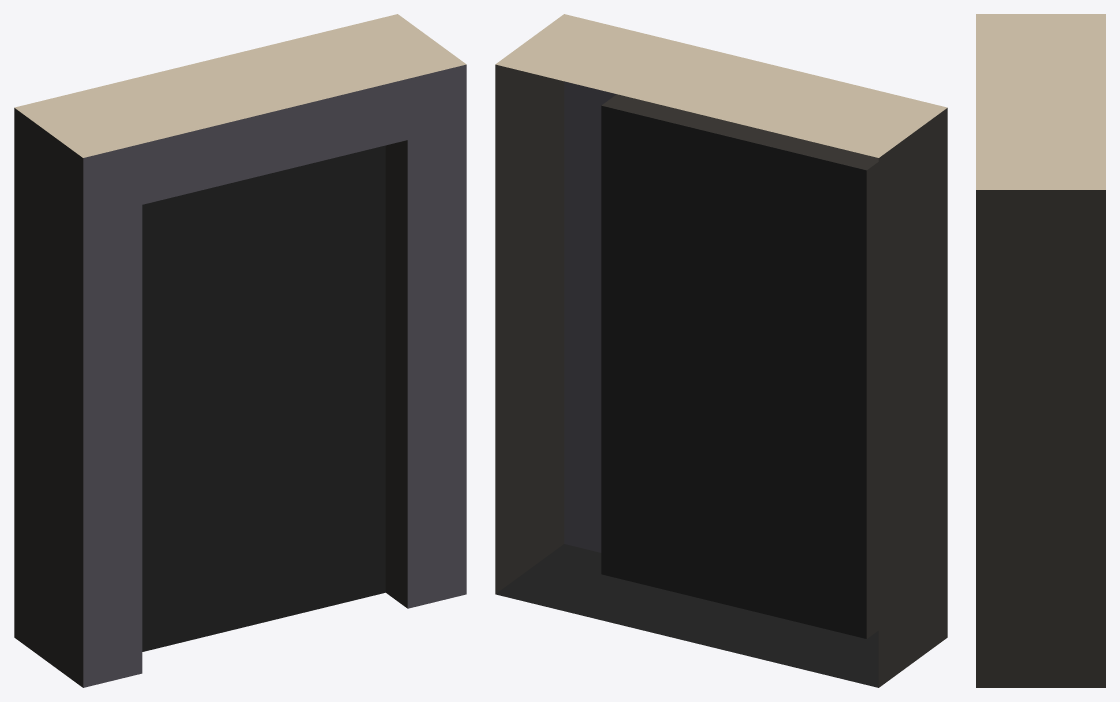
The model's file is TB_D_Bd_Sqr_DoorFrame_C.FBX.
The picture shows the model from 3 angles, left to right: view 1: azimuth 30°, elevation 25°; view 2: azimuth 150°, elevation 25°; view 3: azimuth 270°, elevation 25°; orthographic projection. The views are drawn at different scales.
Parts seen in each view (by area): view 1: TB_D_Bd_Sqr_DoorFrame_C; view 2: TB_D_Bd_Sqr_DoorFrame_C; view 3: TB_D_Bd_Sqr_DoorFrame_C.
Part boxes in pixels (x1,y1,x2,y2): TB_D_Bd_Sqr_DoorFrame_C: (14,14,466,687); TB_D_Bd_Sqr_DoorFrame_C: (495,14,947,687); TB_D_Bd_Sqr_DoorFrame_C: (976,14,1105,687).
Size of the model in its own units: 1.3 by 1.71 by 0.4047.
